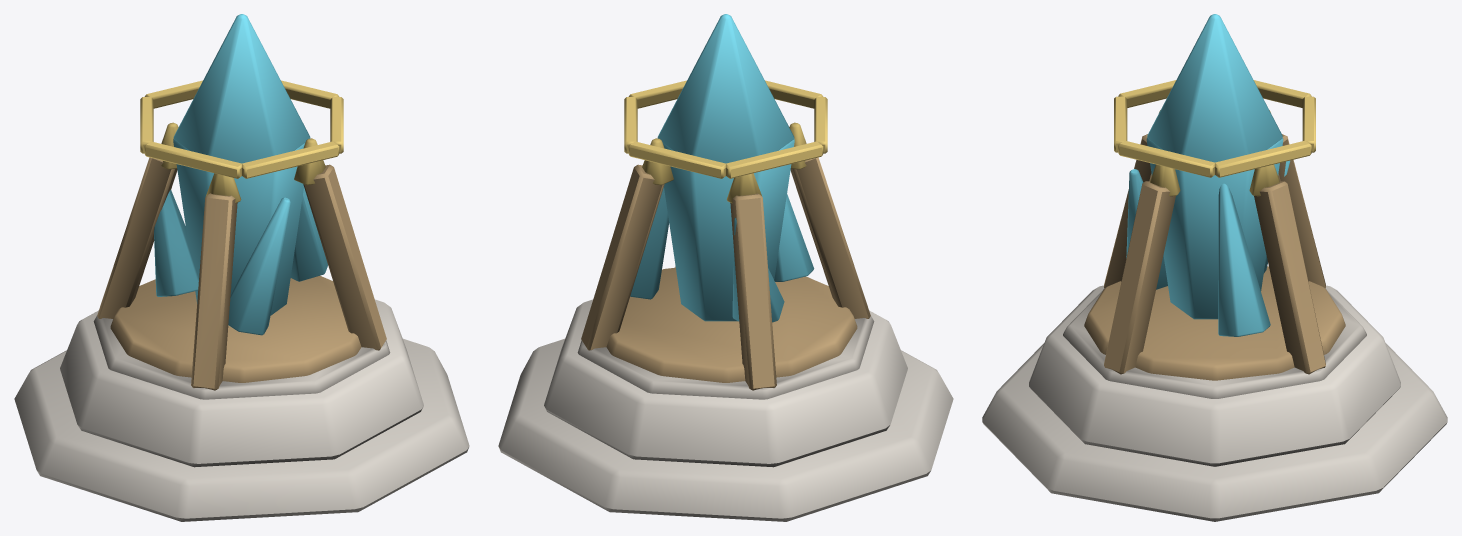
File: arcane_pylon_lod0.glb
3 views of the same model, side by side, from view 1: azimuth 30°, elevation 25°; view 2: azimuth 150°, elevation 25°; view 3: azimuth 270°, elevation 25° (orthographic).
Visible parts, largest first — view 1: arcane_pylon; view 2: arcane_pylon; view 3: arcane_pylon.
Boxes of the visible parts, x1,y1,x2,y2 form: arcane_pylon: [14, 14, 469, 521]; arcane_pylon: [498, 14, 953, 521]; arcane_pylon: [982, 14, 1447, 521].
Bounding box in the file's own units: 2.65 × 2.57 × 2.65.
